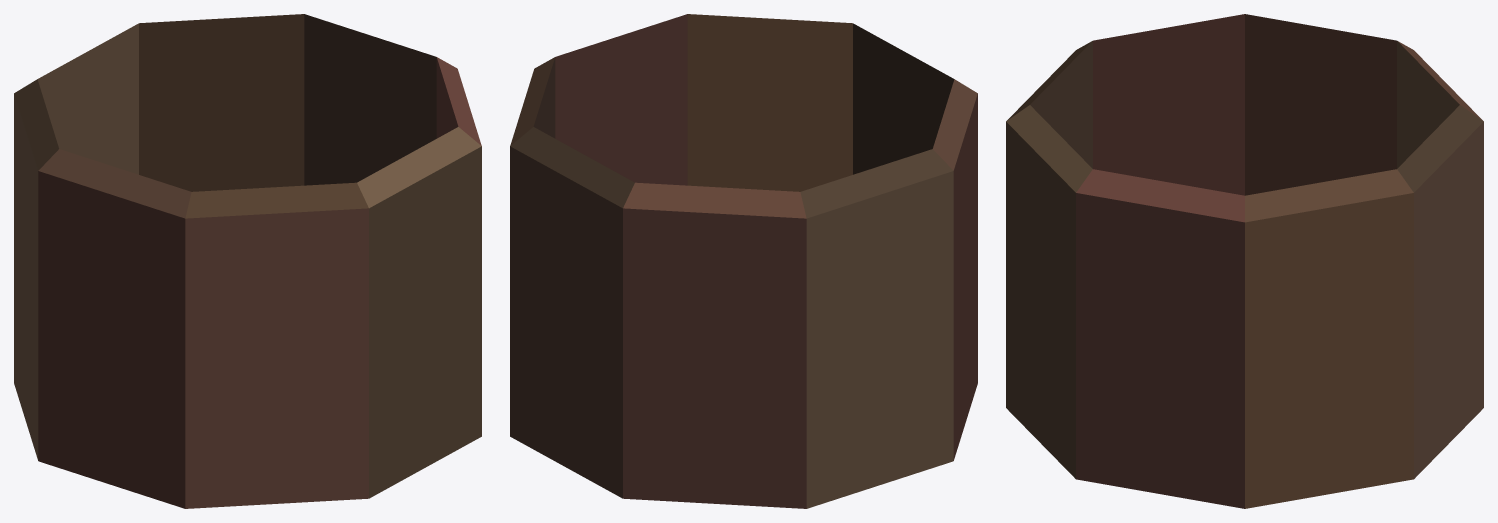
Rendered from Decor_PotC.fbx.
The picture shows the model from 3 angles, left to right: view 1: azimuth 30°, elevation 25°; view 2: azimuth 150°, elevation 25°; view 3: azimuth 270°, elevation 25°; orthographic projection.
Parts seen in each view (by area): view 1: Decor_PotC; view 2: Decor_PotC; view 3: Decor_PotC.
Part boxes in pixels (x1,y1,x2,y2): Decor_PotC: (14,14,481,508); Decor_PotC: (510,14,977,508); Decor_PotC: (1006,14,1483,508).
Bounding box in the file's own units: 50 × 35 × 50.
